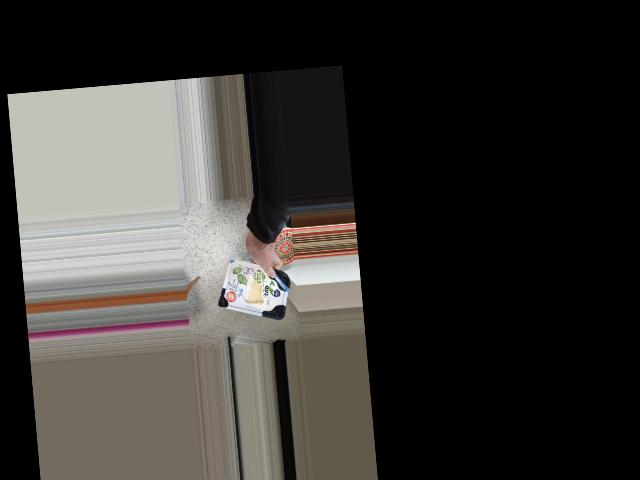cheese: (214, 255, 294, 325)
